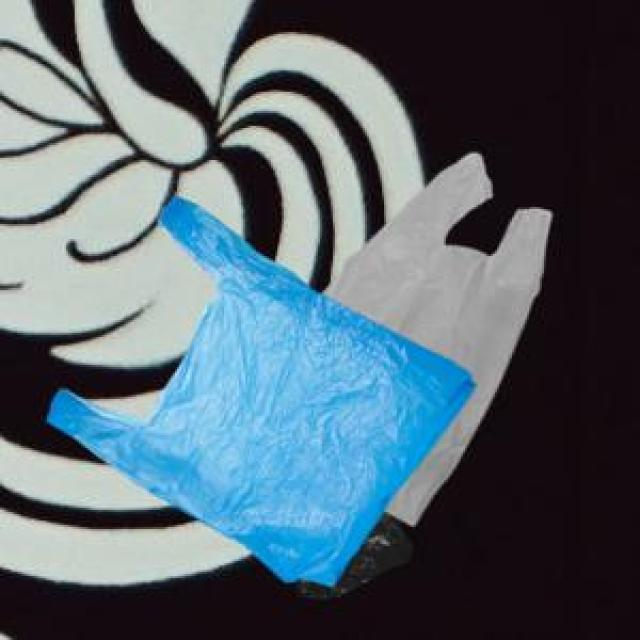Bolsa-de-nilon: (37, 200, 472, 590), (323, 152, 555, 528)
